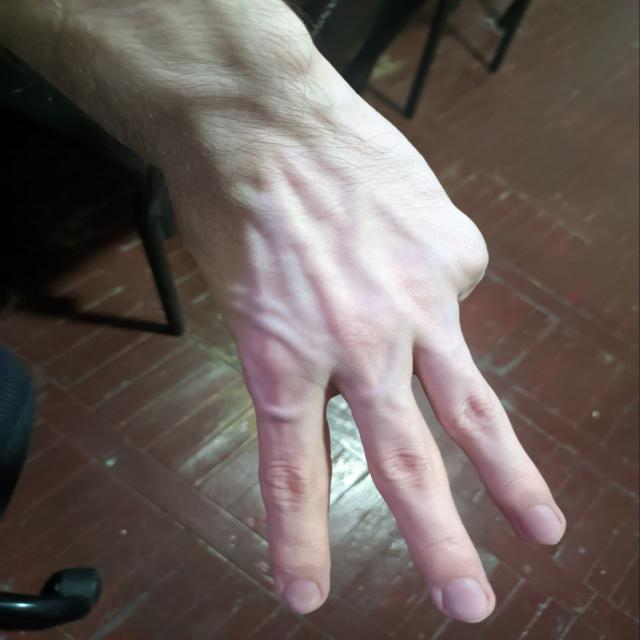m: (144, 153, 623, 627)
